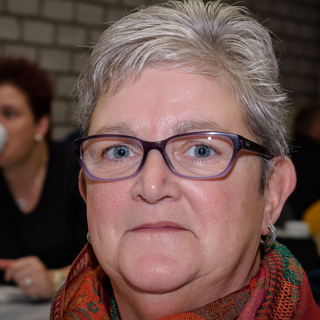eye: (99, 141, 142, 164), (183, 141, 222, 164)
